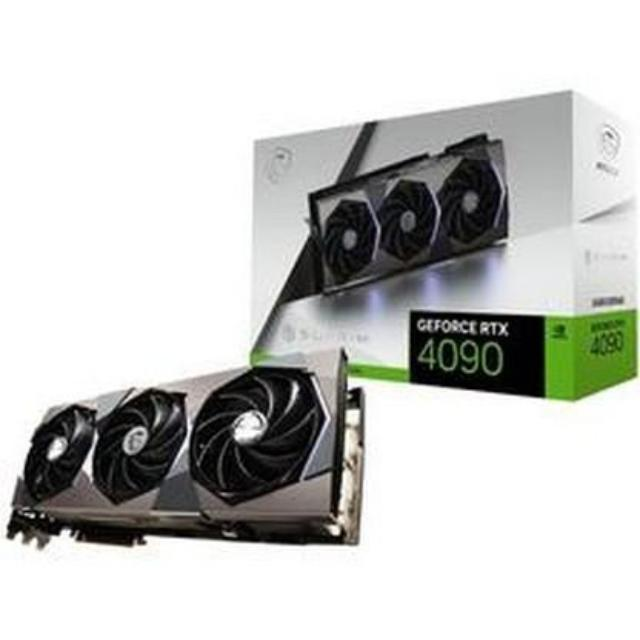GPU: (0, 340, 371, 566)
